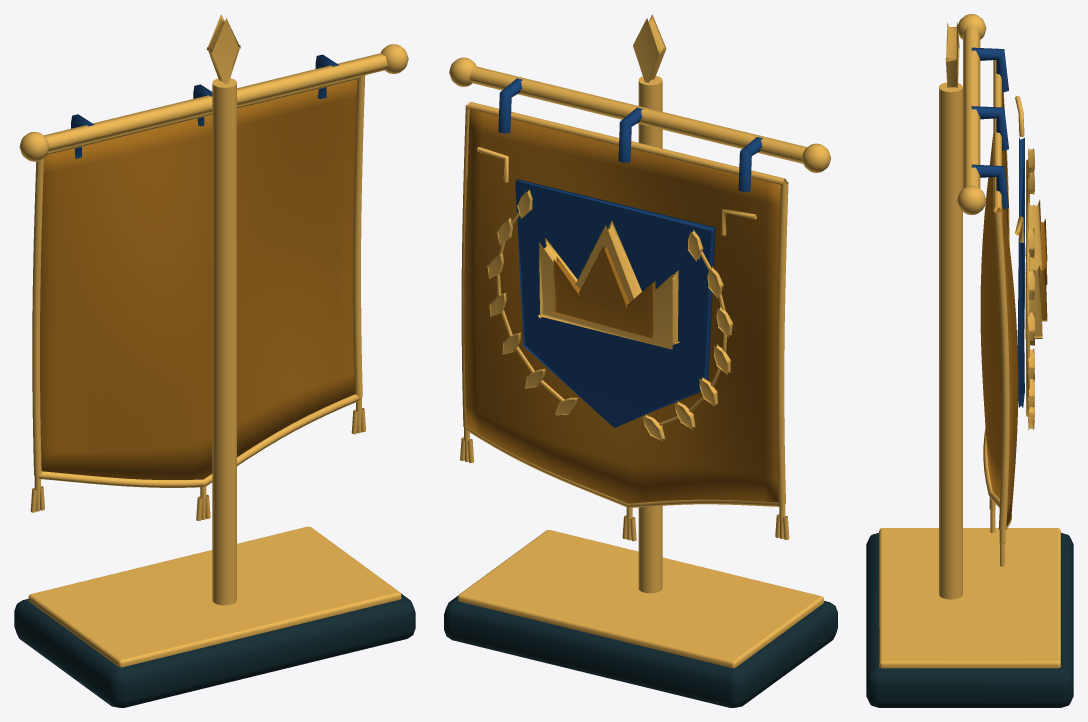
File: prime.banner.arena-queen.glb
3 renders of one model, left to right at view 1: azimuth 30°, elevation 25°; view 2: azimuth 150°, elevation 25°; view 3: azimuth 270°, elevation 25°, orthographic. The views are drawn at different scales.
Parts seen in each view (by area): view 1: woven_banner, banner_foot_rim, banner_foot, banner_pole, banner_crossbar, braided_banner_edge.002, braided_banner_edge.003, braided_banner_edge.001, spear_finial, braided_banner_edge, crossbar_end.001; view 2: woven_banner, embroidered_shield, banner_foot_rim, banner_foot, banner_crossbar, banner_raised_crest, banner_crest_inset, banner_pole, braided_banner_edge.003, braided_banner_edge, braided_banner_edge.001, spear_finial (+5 smaller); view 3: banner_foot_rim, banner_pole, banner_foot, woven_banner, banner_crossbar, braided_banner_edge.002, embroidered_shield, banner_raised_crest, braided_banner_edge, spear_finial, crossbar_end, cloth_hanger.001 (+6 smaller).
Part boxes in pixels (box(x1,y1,x2,y2)): woven_banner: box(40, 79, 357, 479); banner_foot_rim: box(28, 526, 401, 667); banner_foot: box(14, 593, 415, 707); banner_pole: box(212, 78, 236, 605); banner_crossbar: box(44, 53, 387, 152); braided_banner_edge.002: box(353, 75, 365, 397); braided_banner_edge.003: box(32, 158, 43, 476); braided_banner_edge.001: box(38, 394, 360, 487); spear_finial: box(206, 14, 240, 84); braided_banner_edge: box(46, 75, 363, 155); crossbar_end.001: box(19, 132, 48, 161); woven_banner: box(464, 109, 784, 503); embroidered_shield: box(515, 179, 715, 427); banner_foot_rim: box(458, 530, 823, 668); banner_foot: box(444, 595, 837, 707); banner_crossbar: box(469, 66, 807, 163); banner_raised_crest: box(538, 220, 679, 349); banner_crest_inset: box(553, 245, 655, 337); banner_pole: box(638, 75, 662, 593); braided_banner_edge.003: box(776, 181, 788, 504); braided_banner_edge: box(467, 102, 786, 184); braided_banner_edge.001: box(464, 426, 779, 507); spear_finial: box(633, 14, 666, 82); banner_foot_rim: box(879, 528, 1060, 668); banner_pole: box(939, 82, 962, 599); banner_foot: box(866, 533, 1073, 707); woven_banner: box(980, 92, 1018, 526); banner_crossbar: box(963, 26, 980, 188); braided_banner_edge.002: box(994, 209, 1009, 530); embroidered_shield: box(1017, 137, 1024, 407); banner_raised_crest: box(1025, 199, 1042, 338); braided_banner_edge: box(993, 60, 1001, 211); spear_finial: box(945, 22, 959, 87); crossbar_end: box(957, 186, 986, 214); cloth_hanger.001: box(971, 106, 1008, 150).
Size of the model in its own units: 0.756 by 1.18 by 0.36.
